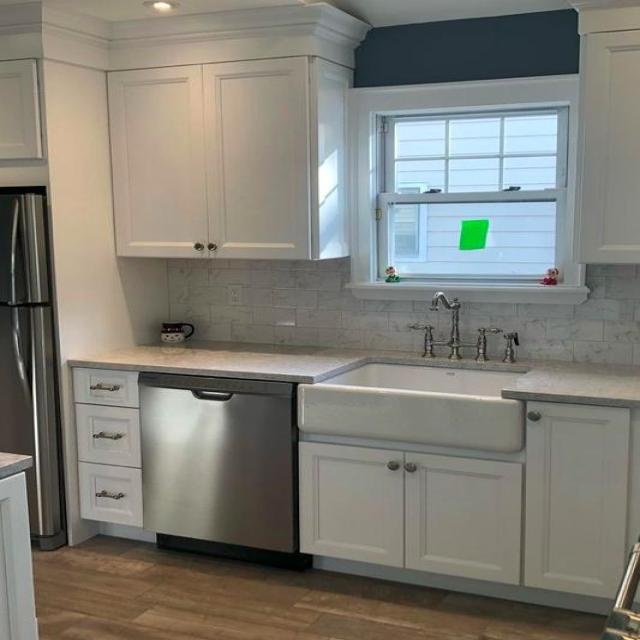dishwasher: (138, 369, 297, 555)
